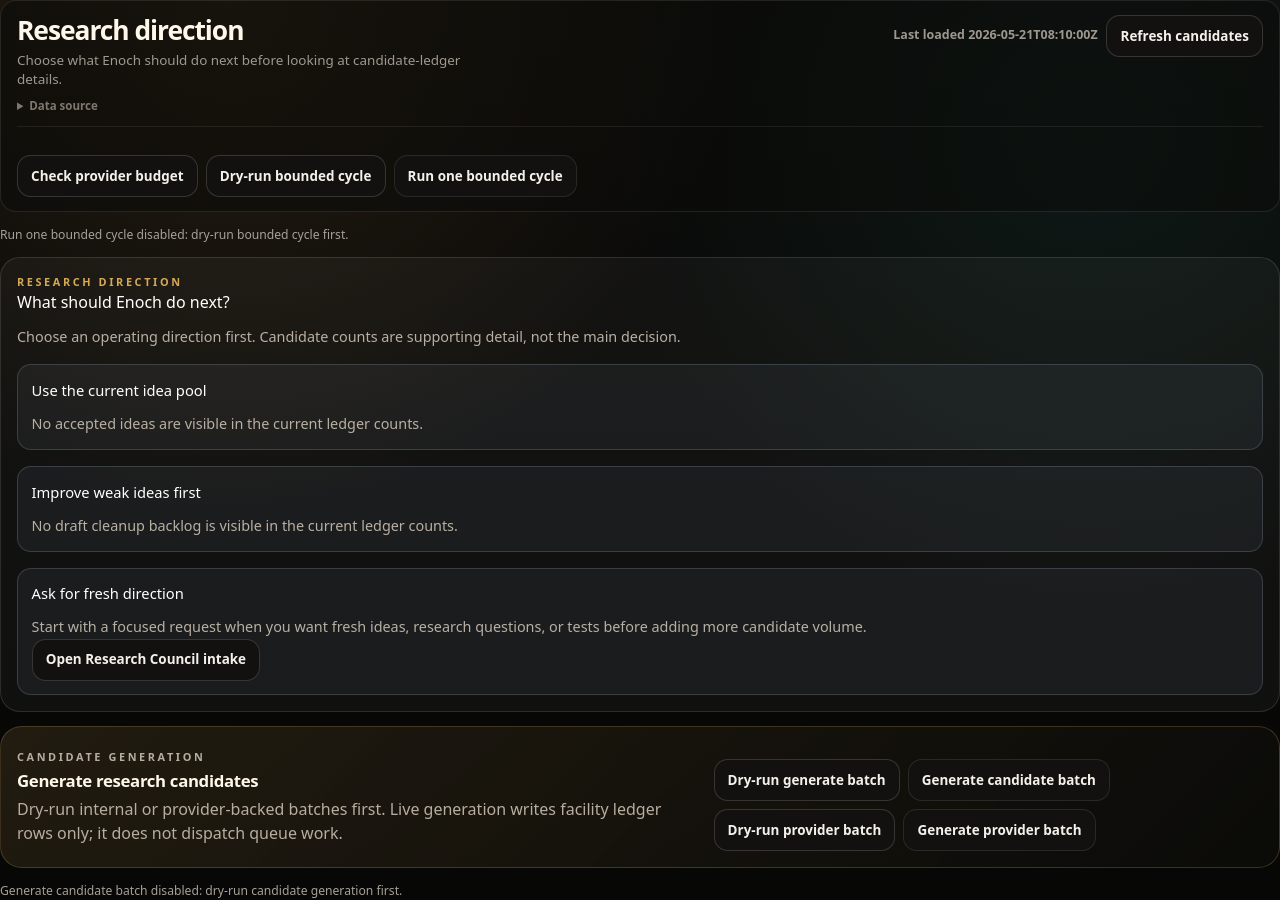
uses a dialog before running a bounded live research cycle after dry-run
The width and height of the screenshot is (1280, 900).
Click the button "Dry-run bounded cycle" at point(296, 176), box 206,155 -> 386,197
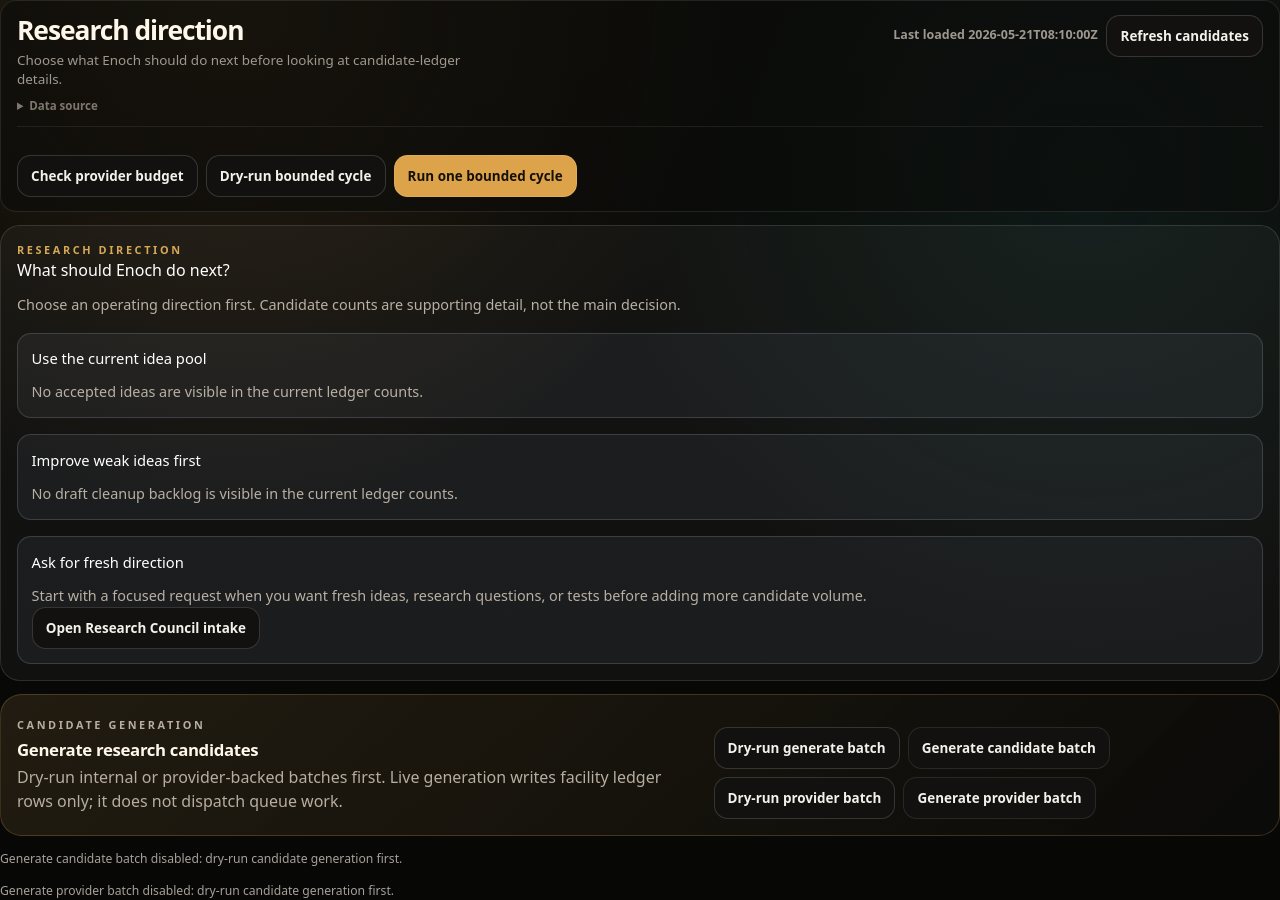
Click the button "Run one bounded cycle" at point(485, 176), box 394,155 -> 577,197
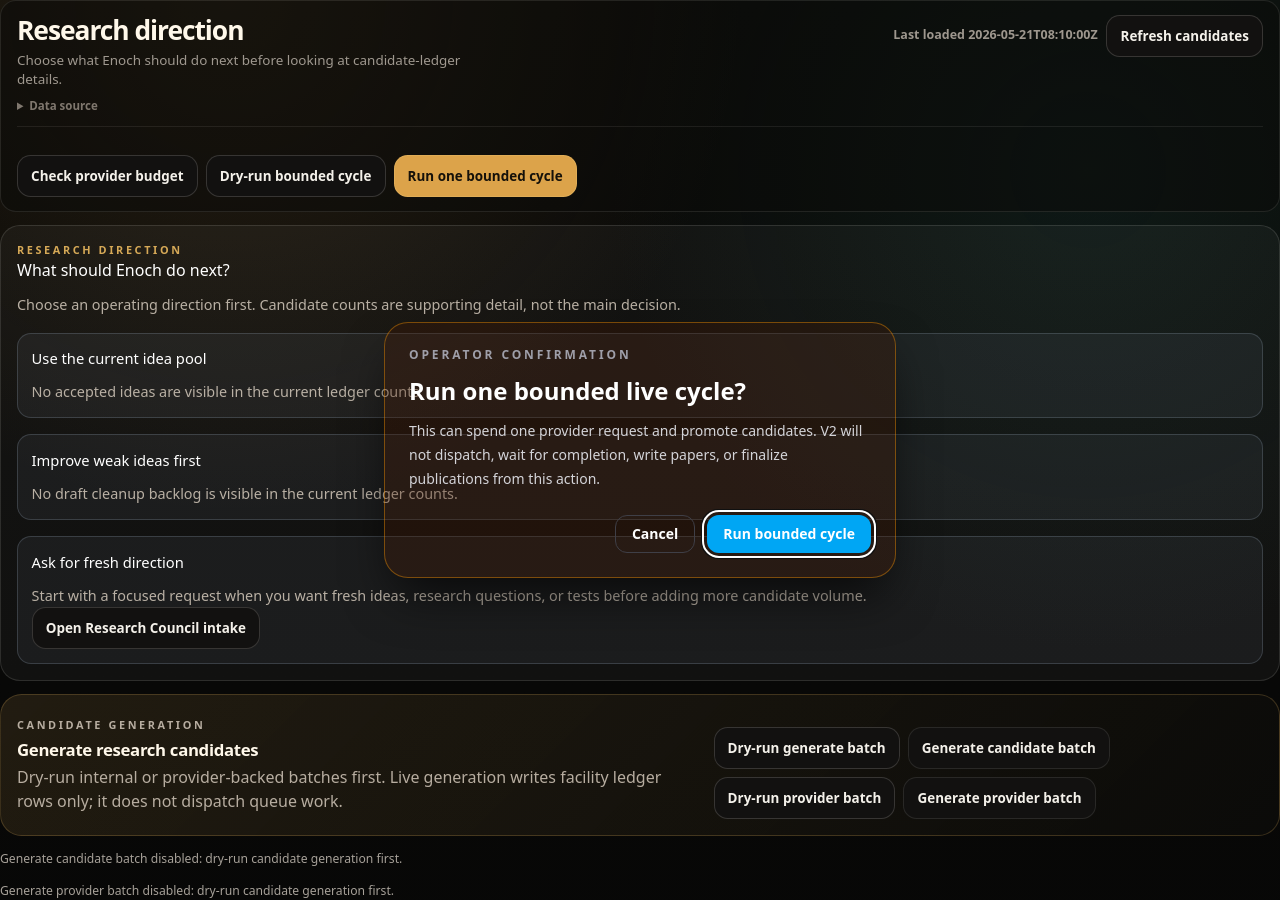
Result: the dialog "Run one bounded live cycle?" shows "will not dispatch" at 409,421 -> 862,488
Click the button "Run bounded cycle" at point(789, 534), box 707,515 -> 871,553
(page scrolled)
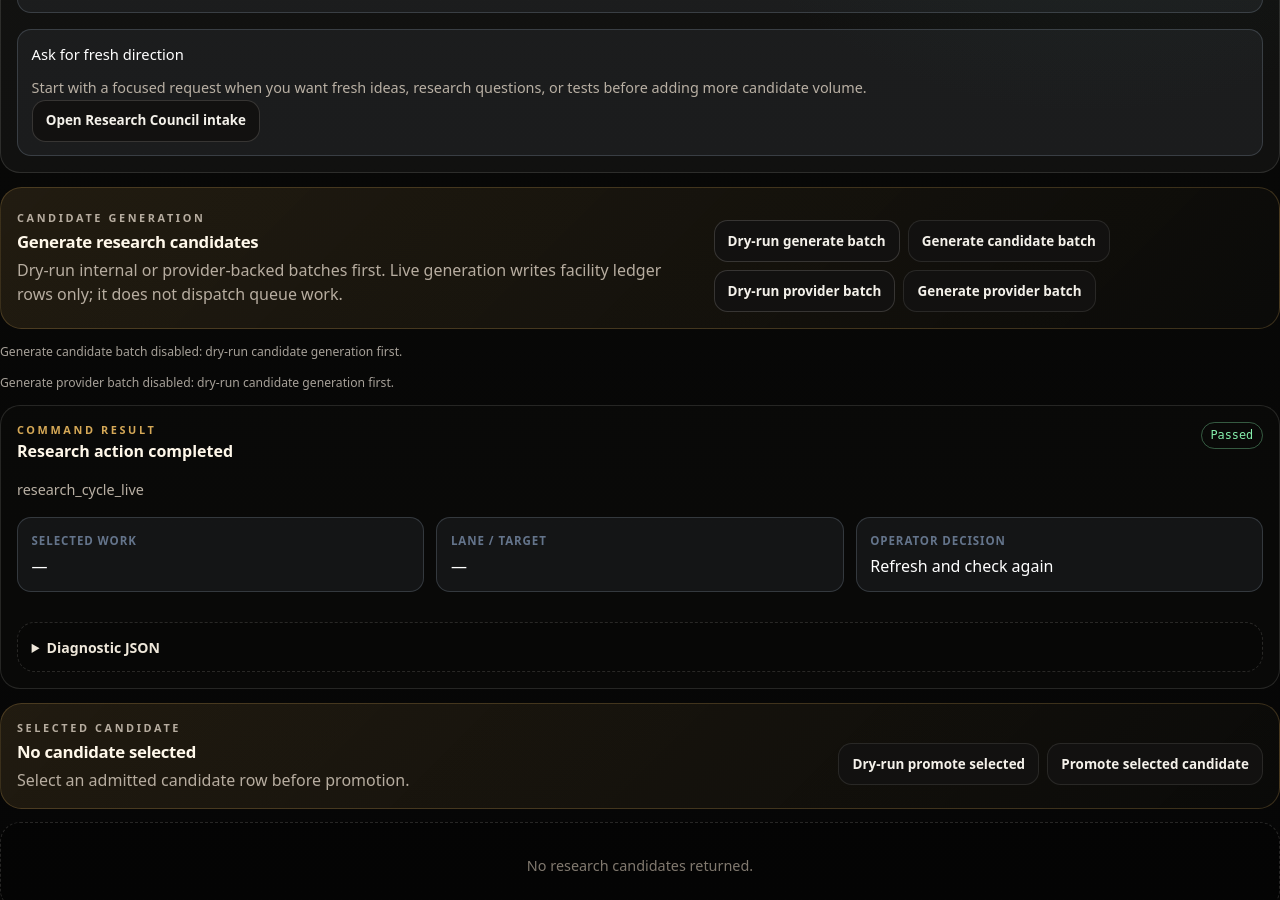
Result: the heading "Research action completed" is shown at 17,439 -> 233,463
